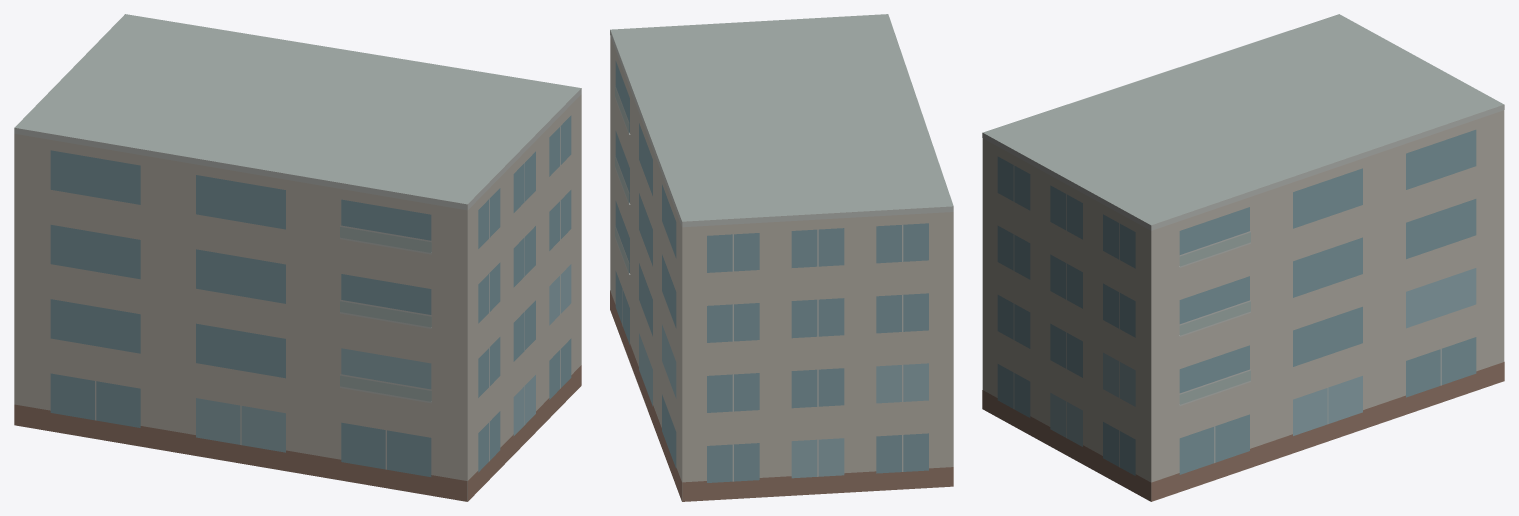
File: survey-upis-32475219.glb
3 views of the same model, side by side, from view 1: azimuth 30°, elevation 25°; view 2: azimuth 150°, elevation 25°; view 3: azimuth 270°, elevation 25° (orthographic). The views are drawn at different scales.
Visible parts, largest first — view 1: survey-upis-32475219.tmp; view 2: survey-upis-32475219.tmp; view 3: survey-upis-32475219.tmp.
Part boxes in pixels (x1,y1,x2,y2): survey-upis-32475219.tmp: [14, 14, 581, 501]; survey-upis-32475219.tmp: [610, 14, 953, 501]; survey-upis-32475219.tmp: [982, 14, 1504, 501].
Bounding box in the file's own units: 20.01 × 12.2 × 20.87.
